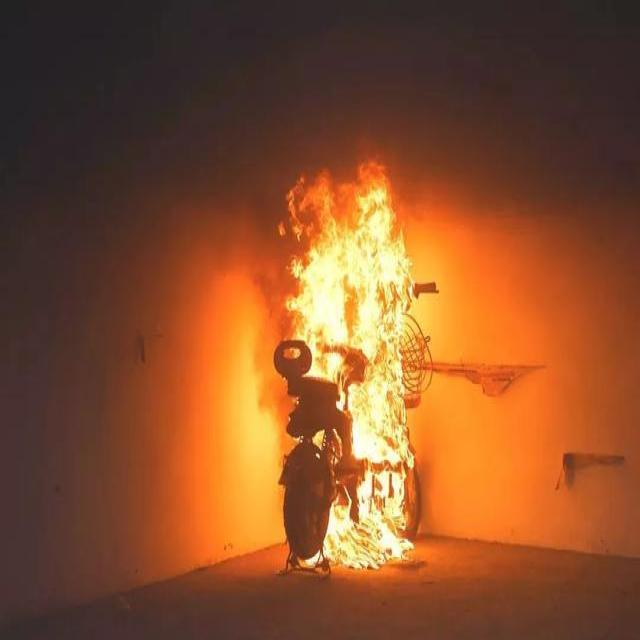Fire: (284, 208, 416, 335), (346, 337, 413, 570), (310, 335, 344, 381), (326, 498, 346, 566)
